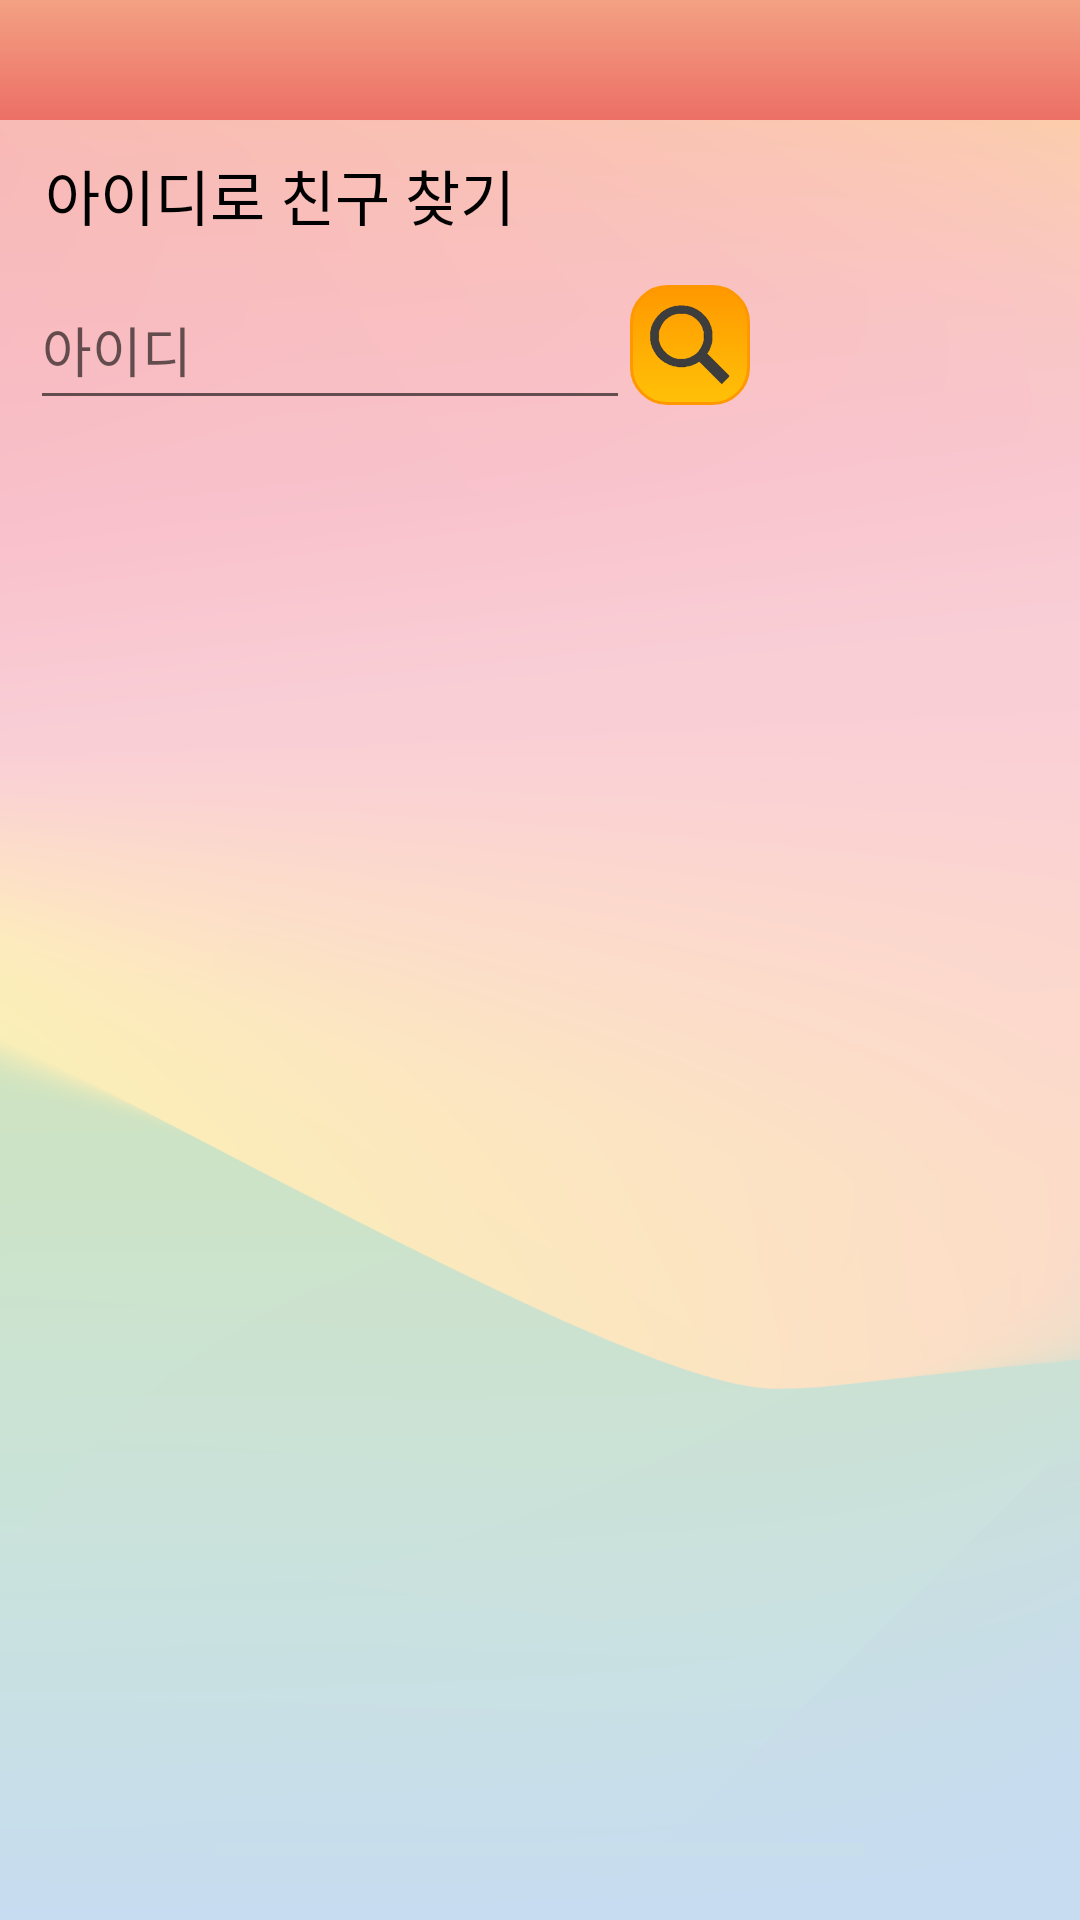

Screen size 1080x1920. Icon name, then its center in pixels as [x,y]:
search: [690,345]
